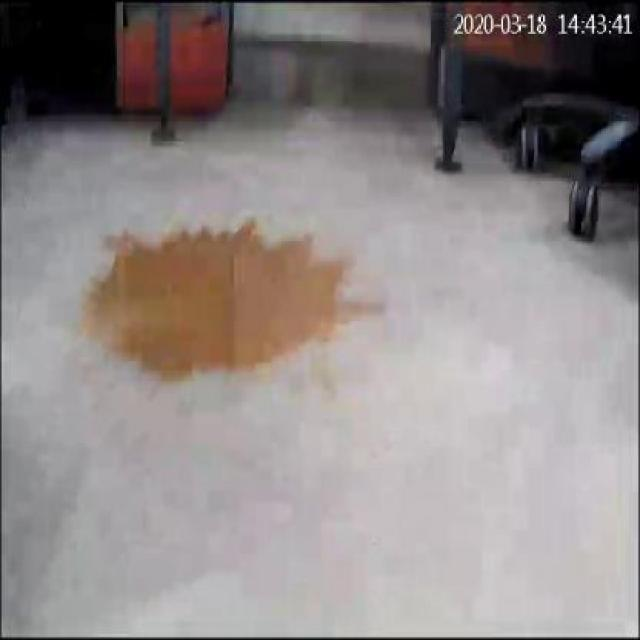spill: (94, 215, 363, 372)
